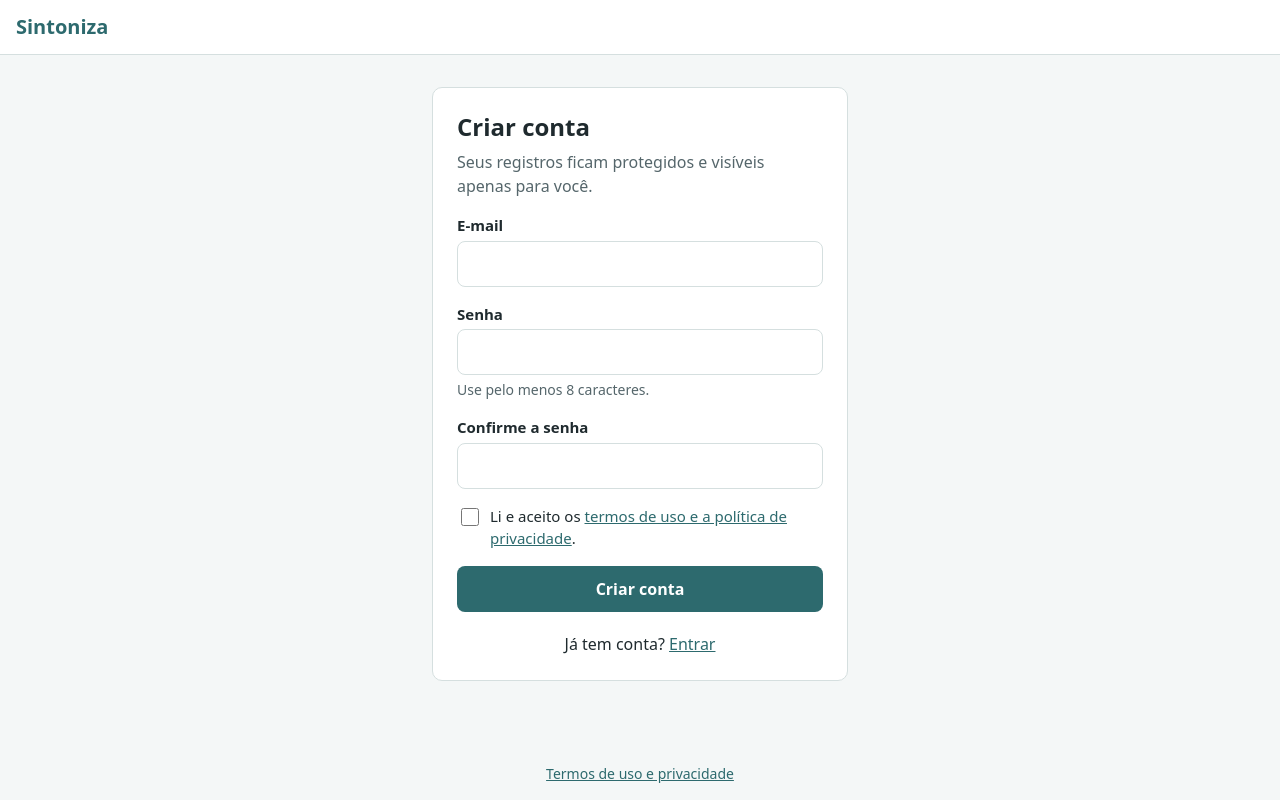
Test: RegisterPage › creates the account and redirects to login
Type "ana@example.com" into the field labelled "E-mail". click: (640, 264)
box: [457,240,823,286]
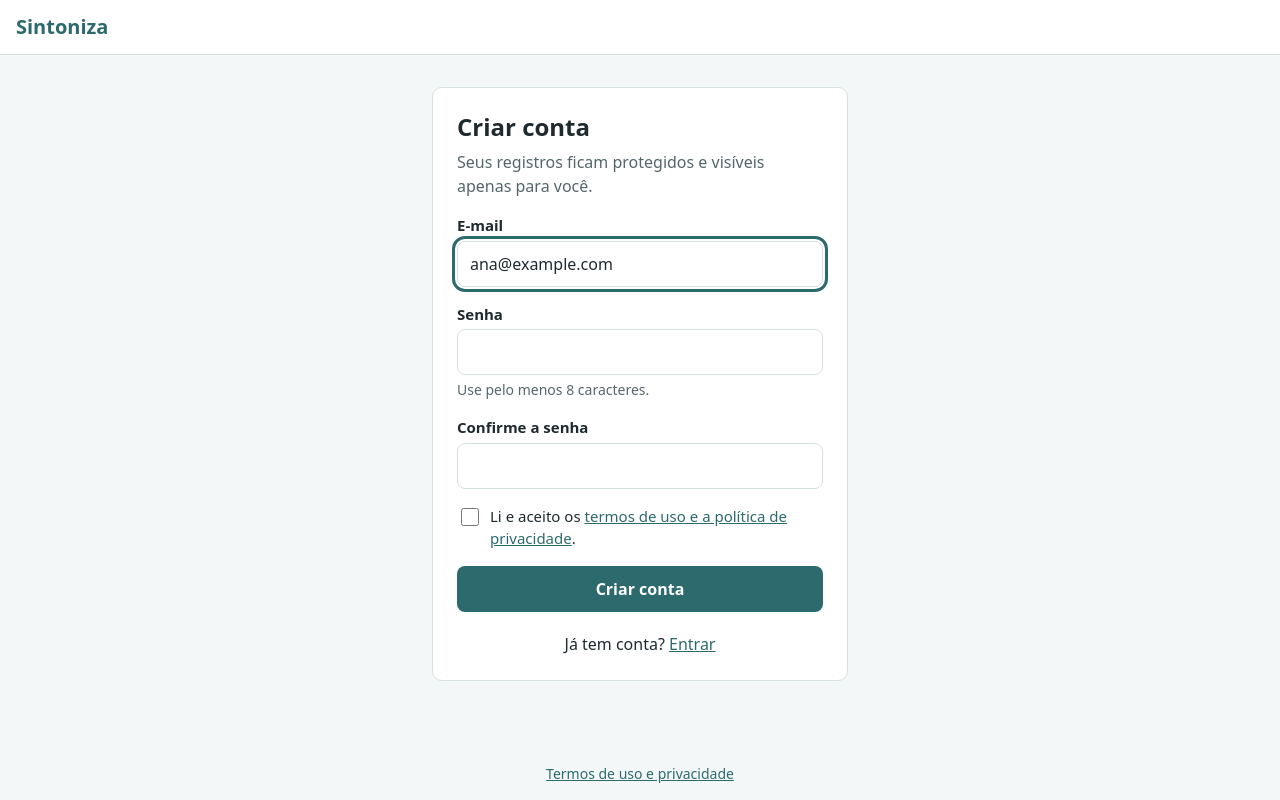
Type "senha-segura-123" into the password field labelled "Senha". click: (640, 352)
box: [457,329,823,375]
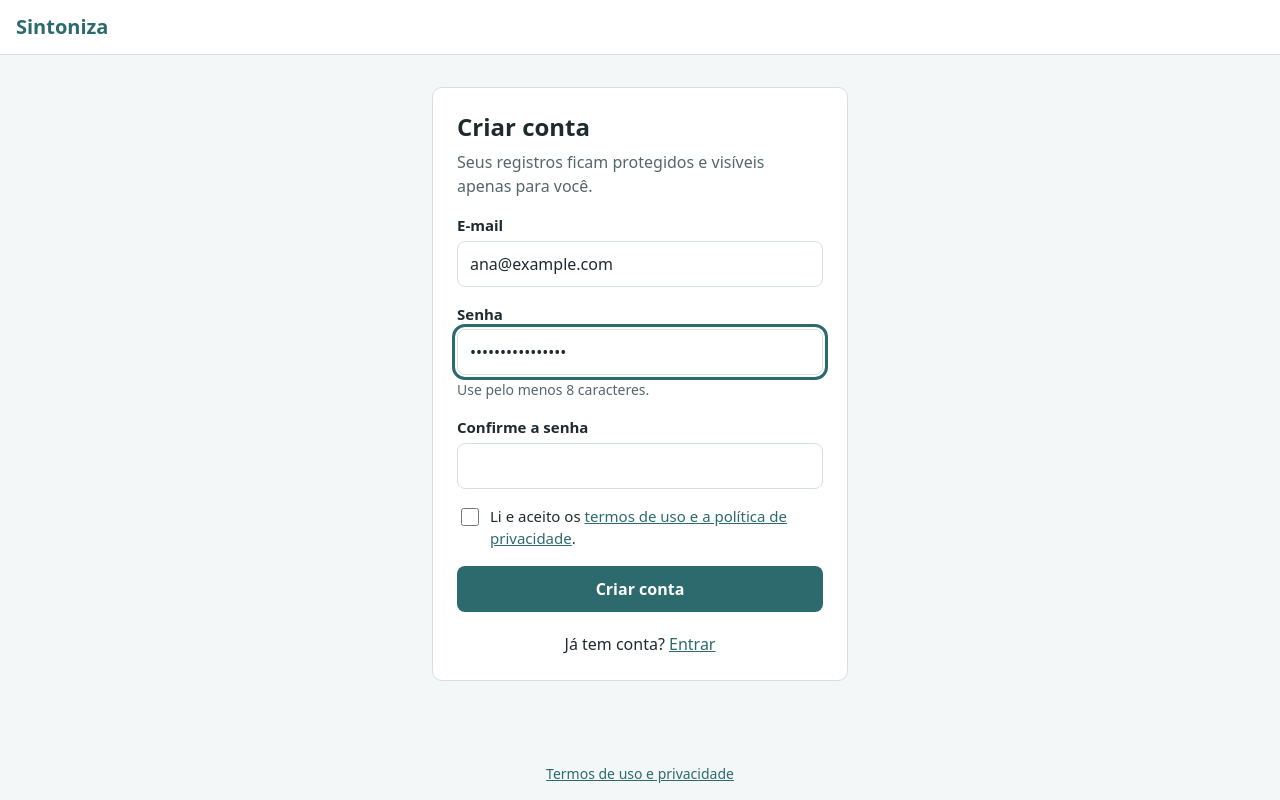
Type "senha-segura-123" into the password field labelled "Confirme a senha". click: (640, 466)
box: [457,442,823,488]
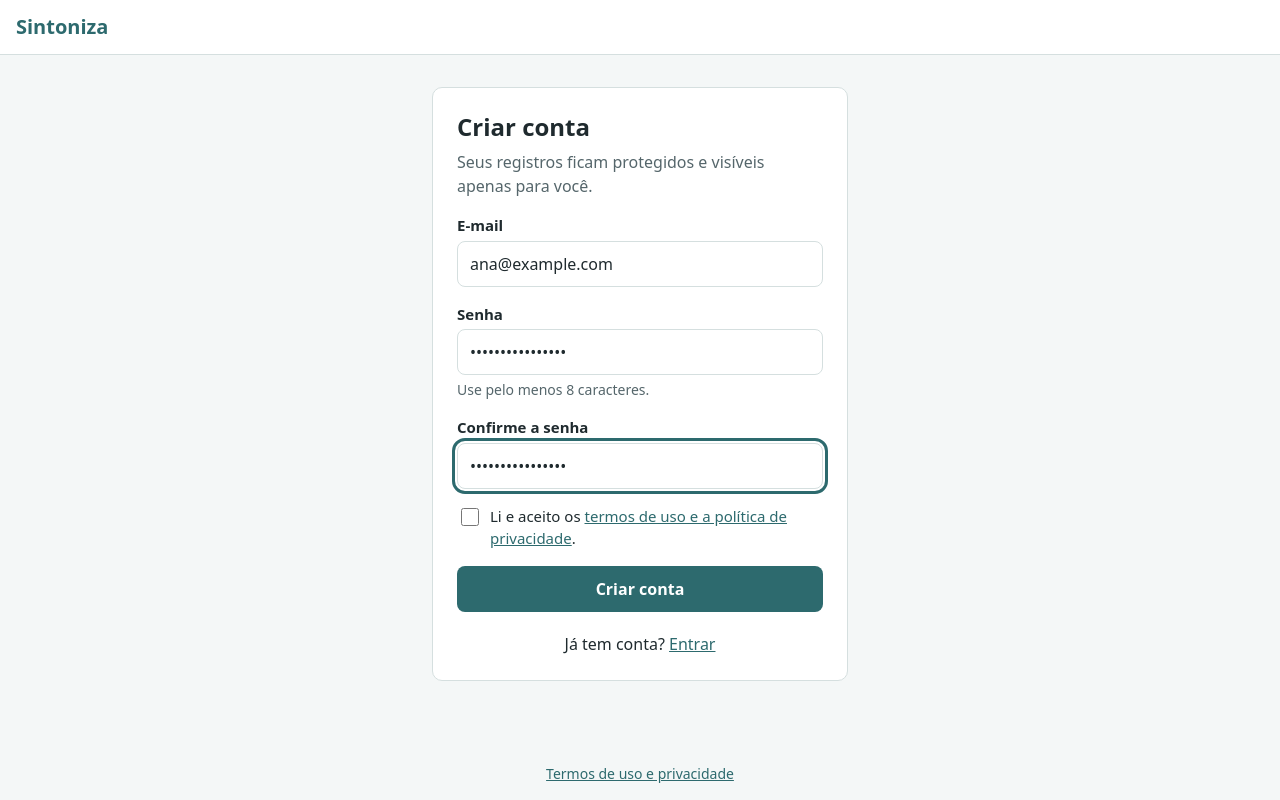
Click the checkbox. click: (470, 517)
box: [461,508,479,526]
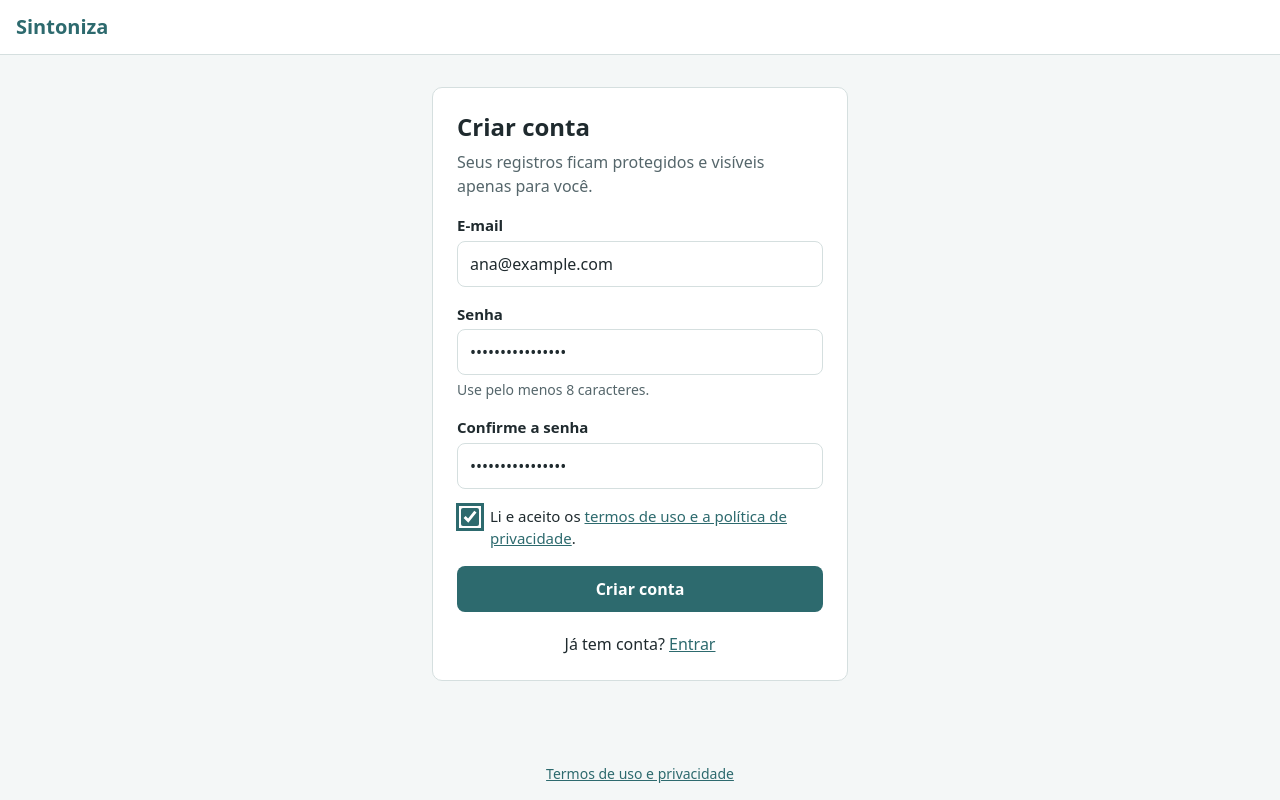
Click the button "Criar conta". click: (640, 588)
box: [457,566,823,612]
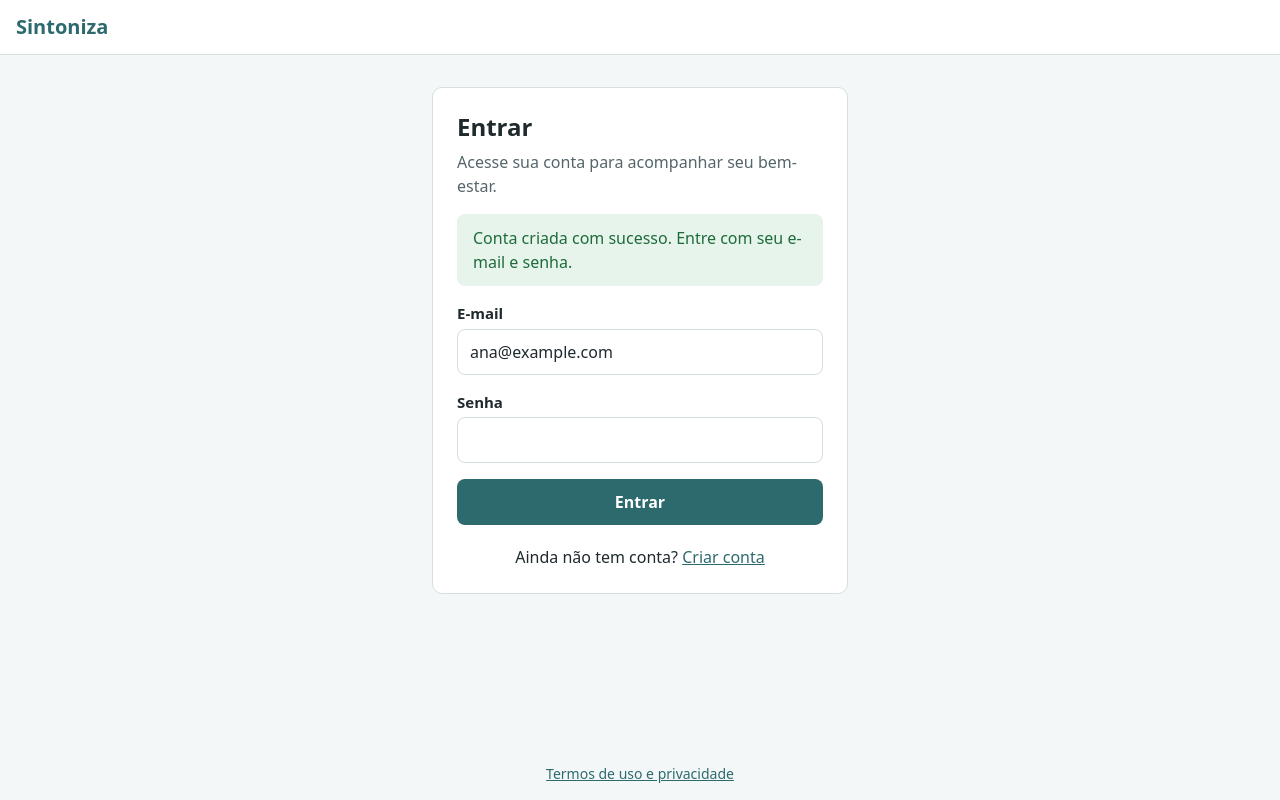
Result: the field labelled "E-mail" holds "ana@example.com" at [457,328,823,374]
Result: the text "Conta criada com sucesso. Entre com seu e-mail e senha." is shown at [457,214,823,286]
Result: the heading "Entrar" is shown at [457,110,532,143]
